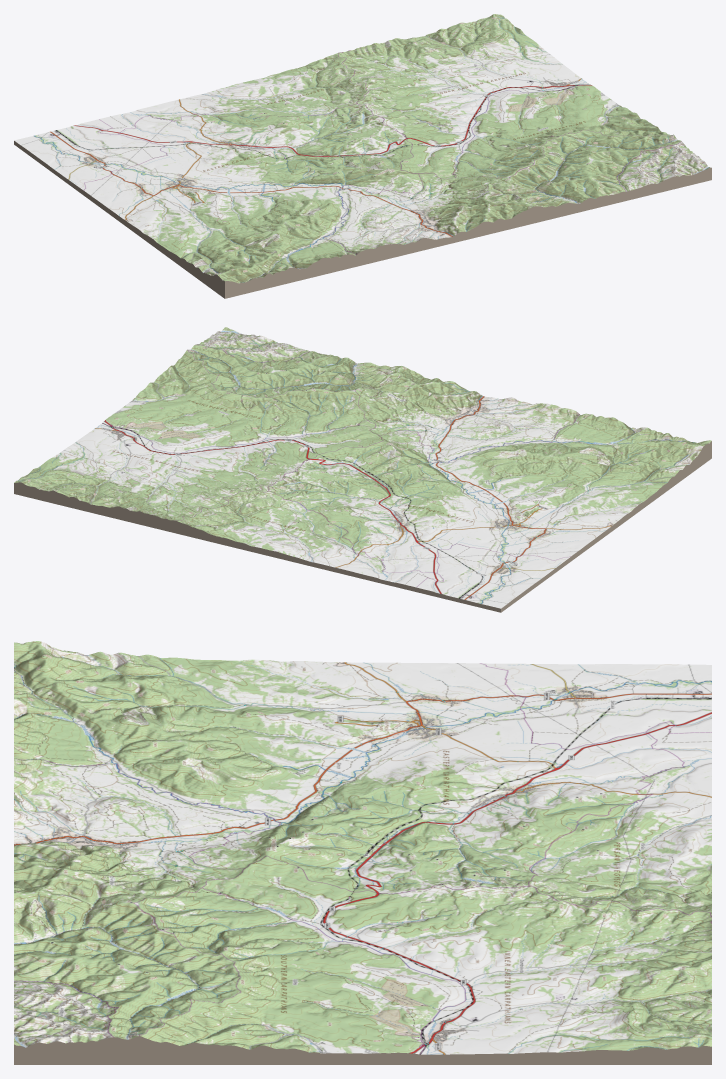
The picture shows the model from 3 angles, top to bottom: view 1: azimuth 30°, elevation 25°; view 2: azimuth 150°, elevation 25°; view 3: azimuth 270°, elevation 25°; orthographic projection. The views are drawn at different scales.
Visible parts, largest first — view 1: BV50-D3 Șinca Nouă; view 2: BV50-D3 Șinca Nouă; view 3: BV50-D3 Șinca Nouă.
Boxes of the visible parts, x1=… form: BV50-D3 Șinca Nouă: x1=14, y1=14, x2=711, y2=298; BV50-D3 Șinca Nouă: x1=14, y1=327, x2=711, y2=612; BV50-D3 Șinca Nouă: x1=14, y1=641, x2=711, y2=1064.
Size of the model in its own units: 20000 by 727 by 15000.
Materials: 6 (1 with a texture image).
